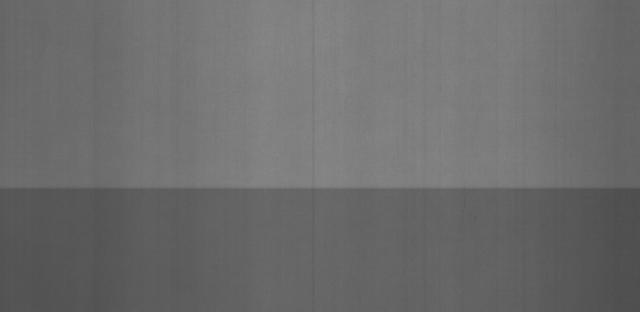welding_line: (0, 176, 636, 206)
